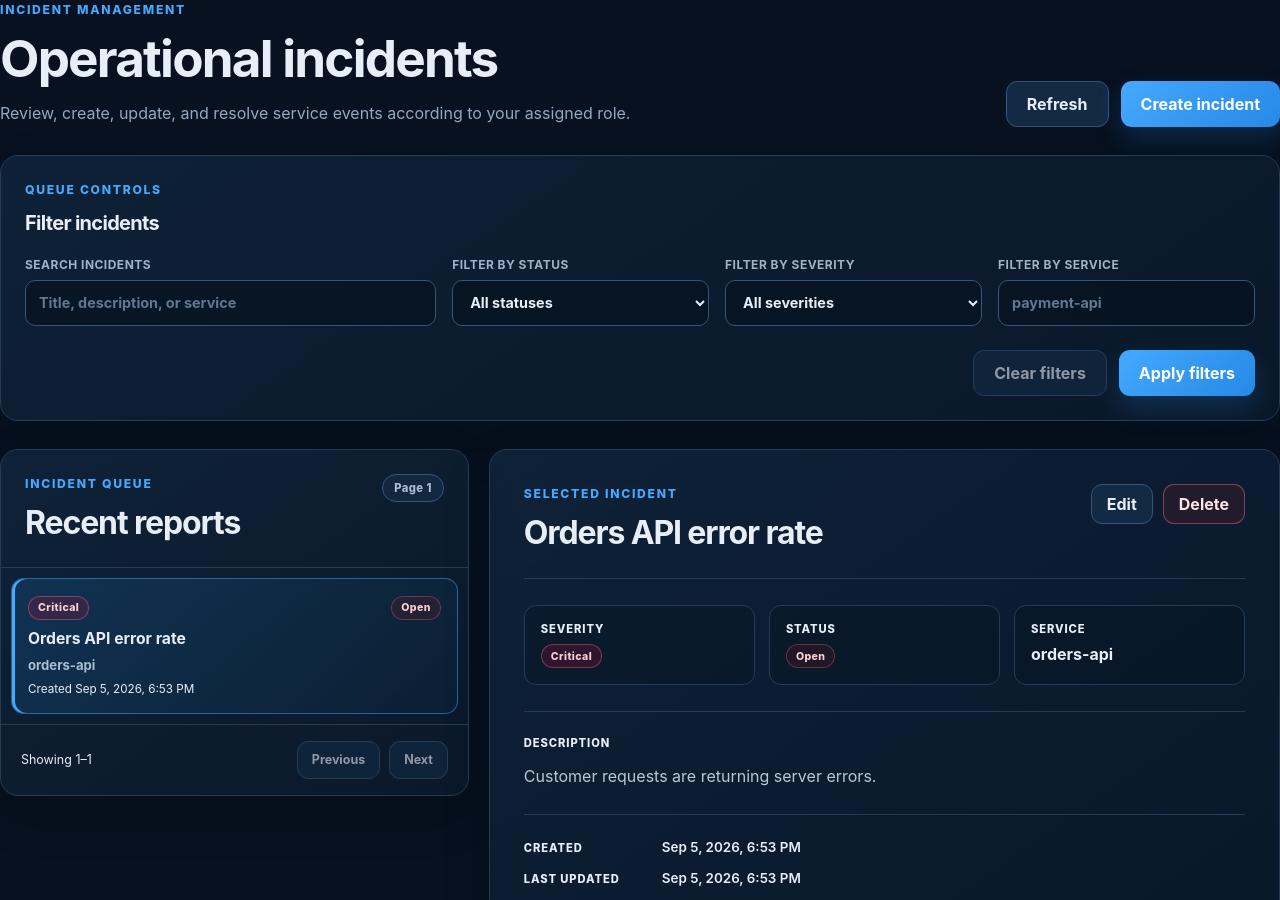
it: IncidentsPage › allows an administrator to confirm Incident deletion
The width and height of the screenshot is (1280, 900).
Click the button "Delete": click(1204, 504) [1163,484,1245,524]
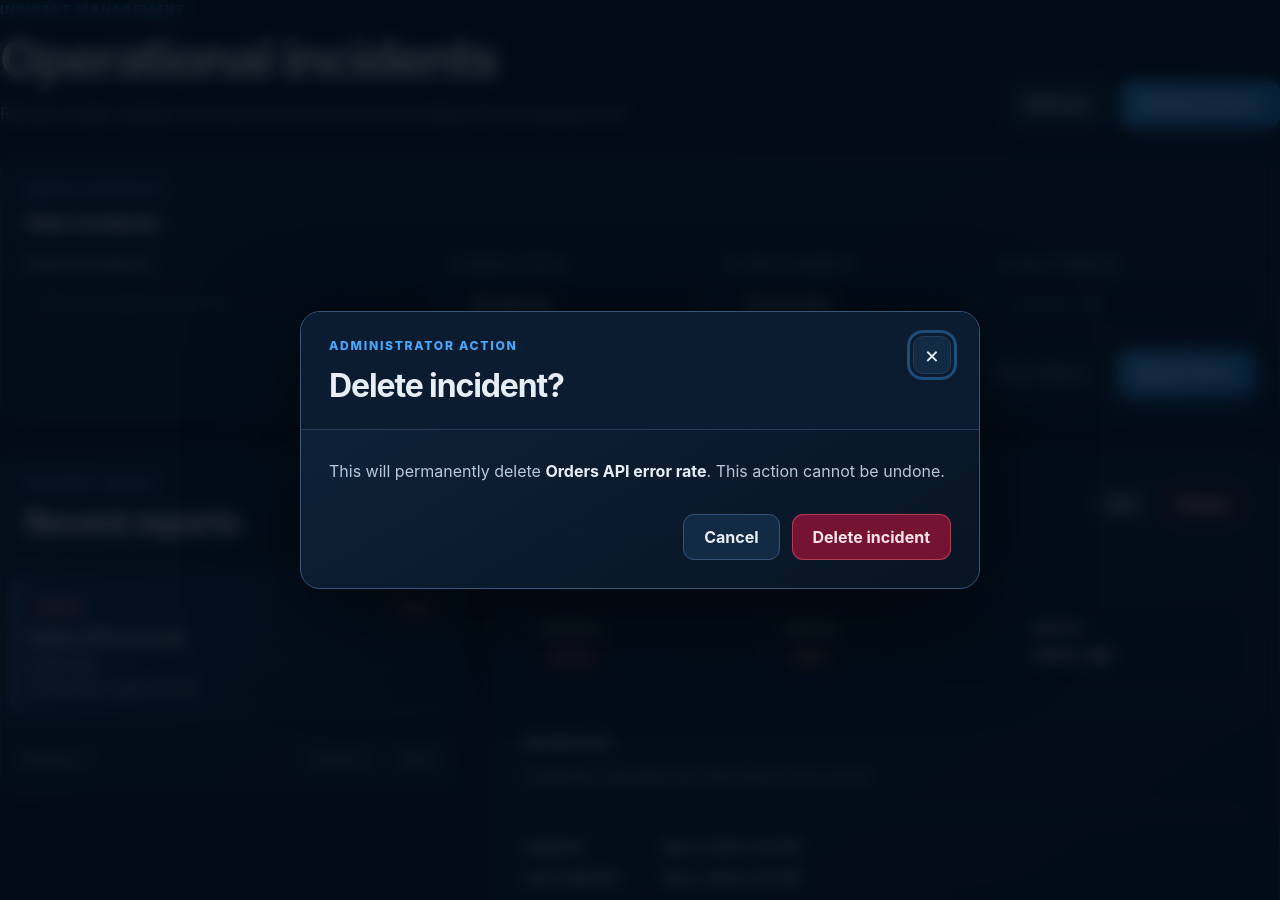
Now the text "Orders API error rate" is shown, box [545,461,707,481]
Click the button "Delete incident": click(871, 537) [792,514,951,560]
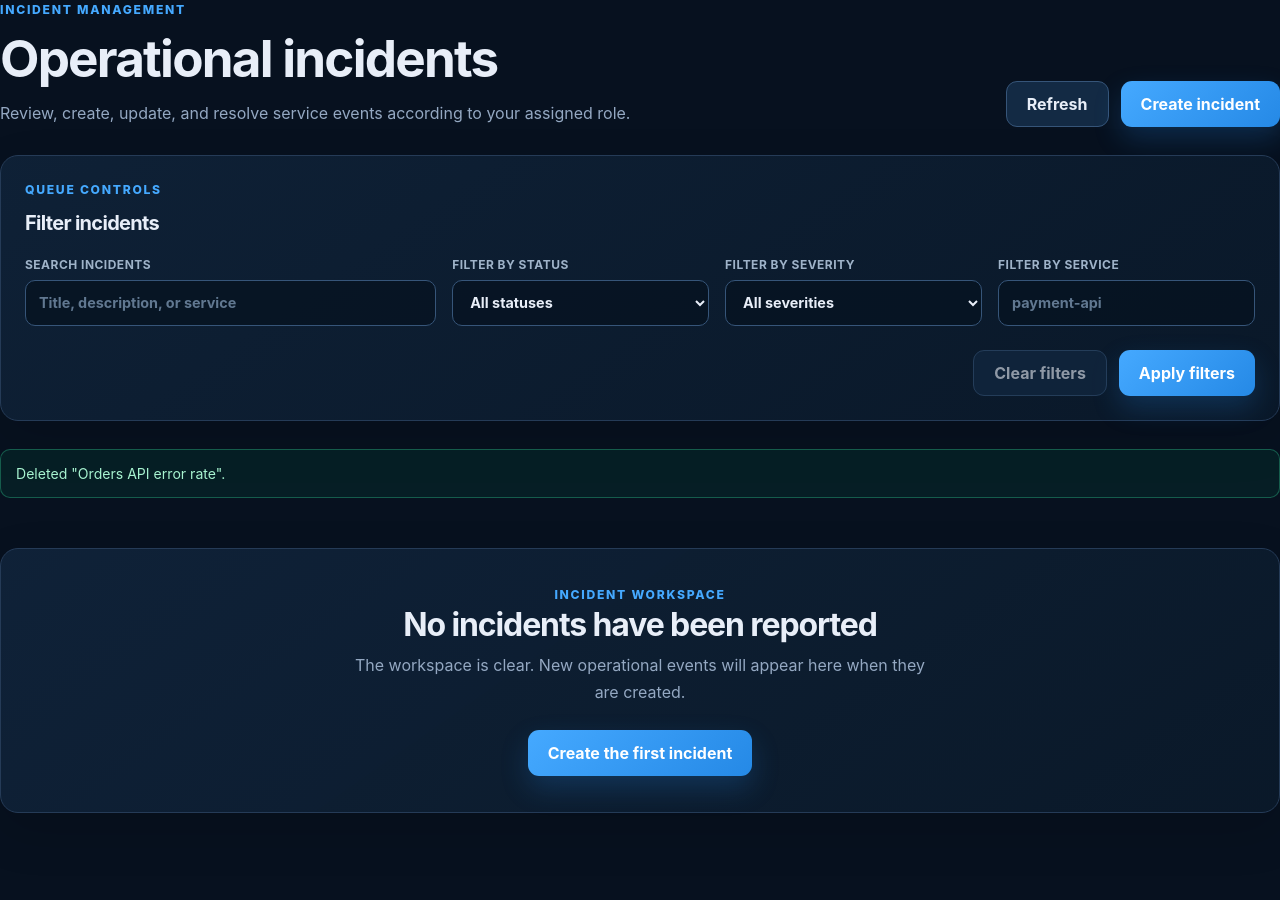
Now the text "Deleted \"Orders API error rate\"." is shown, box [0,449,1279,498]
Now the heading "No incidents have been reported" is shown, box [403,605,877,644]
